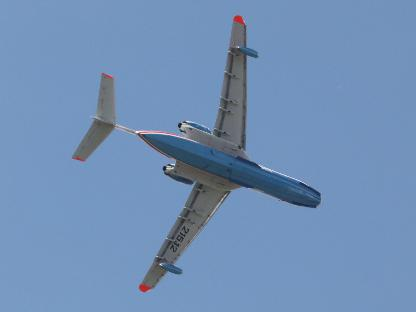B52: (70, 14, 322, 290)
